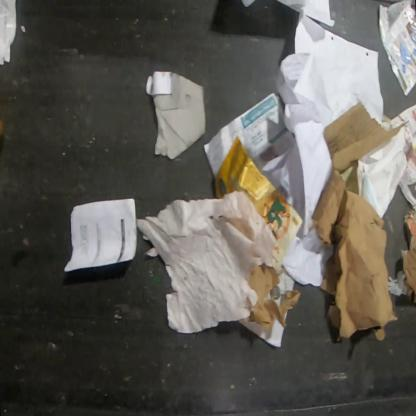cardboard: (310, 101, 406, 343), (400, 247, 415, 305), (402, 204, 415, 252)
rigid_plastic: (389, 270, 409, 297)
